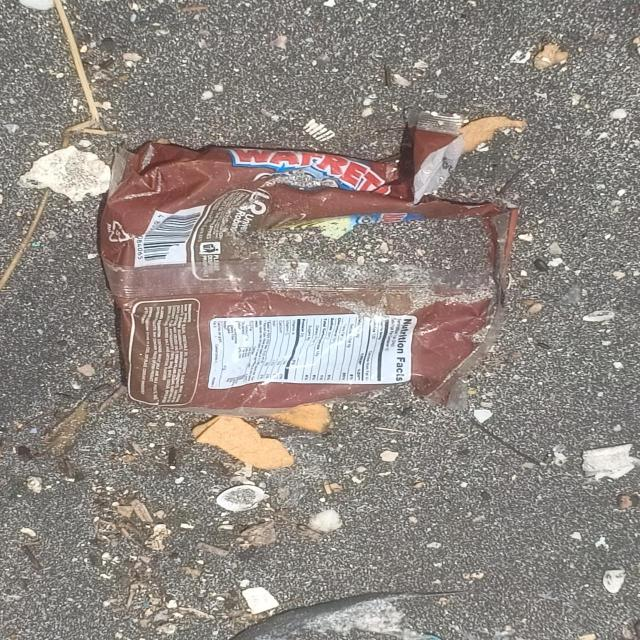plastic_waste: (98, 143, 521, 419)
